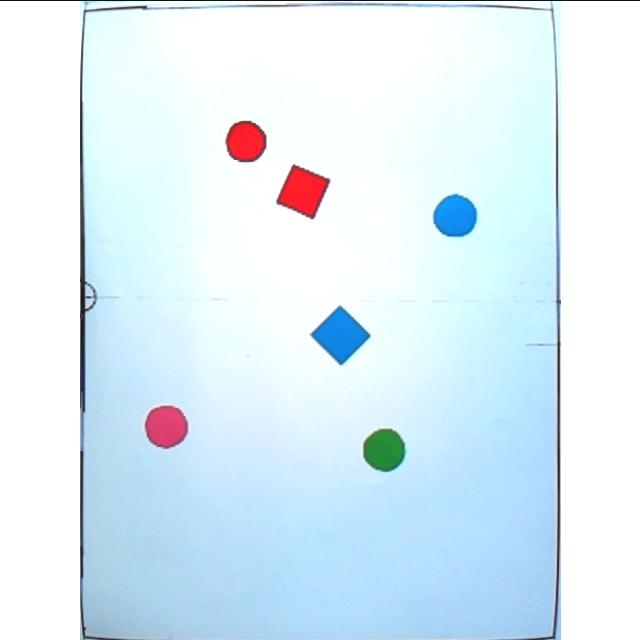blueCircle: (429, 193, 476, 237)
blueSquare: (306, 304, 369, 364)
greenCircle: (361, 427, 405, 471)
pinkCircle: (142, 404, 188, 448)
redCircle: (224, 119, 268, 163)
redSquare: (273, 162, 331, 220)
